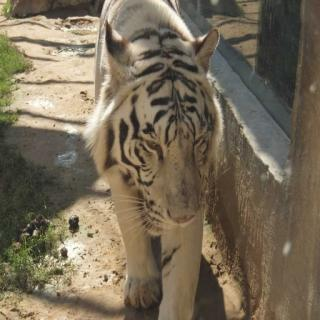Tiger: (64, 0, 254, 320)
